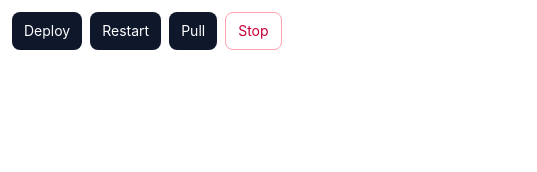
Test case: ActionBar › reports a timed-out action in words a person can act on, not the raw millisecond string
Click the button "Deploy" at (47, 31), box [12,12,82,50]
Wait 30000 ms
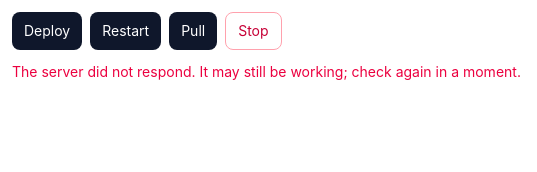
Expected: the text "The server did not respond. It may still be working; check again in a moment." is shown, [12,63,521,80]
